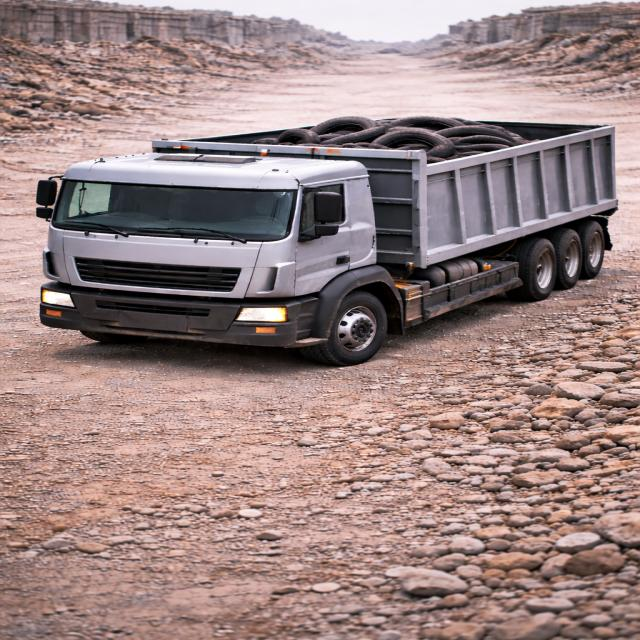Box: (153, 113, 612, 165)
Truck: (26, 92, 639, 366)
